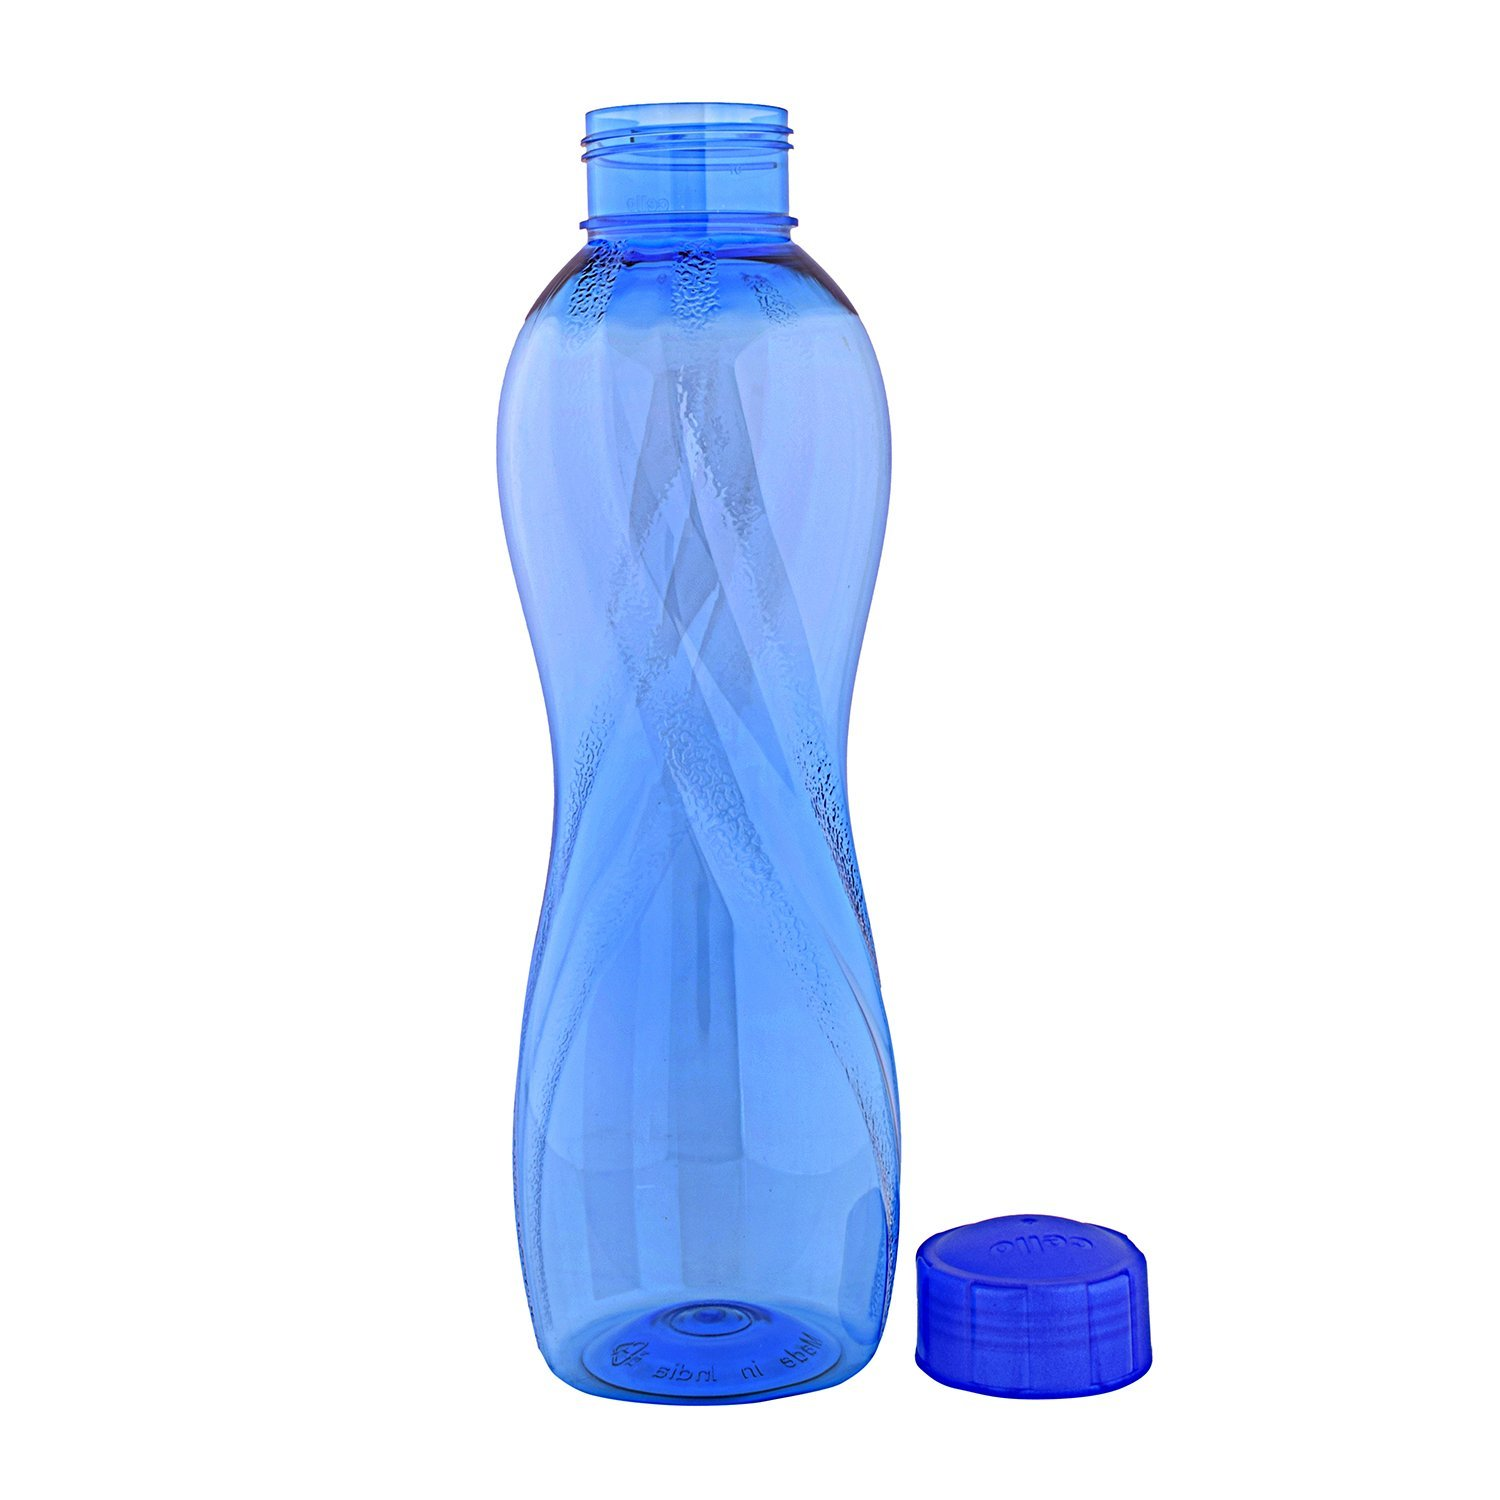emptybottle: (495, 96, 902, 1404)
